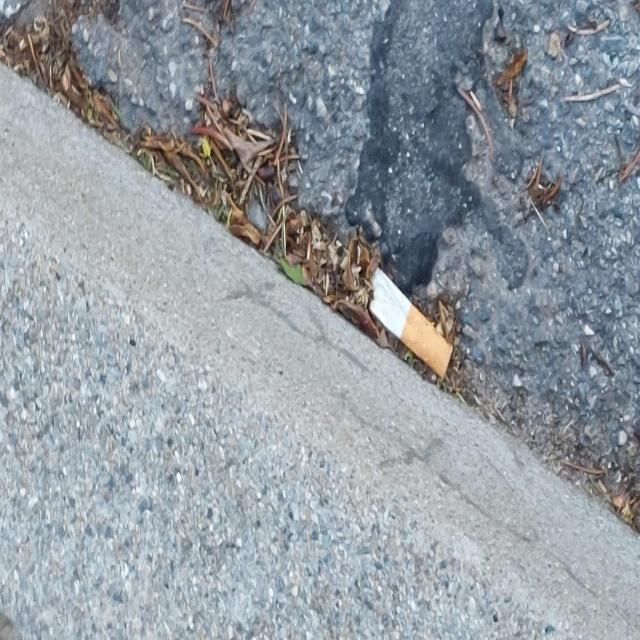other waste: (369, 264, 455, 382)
